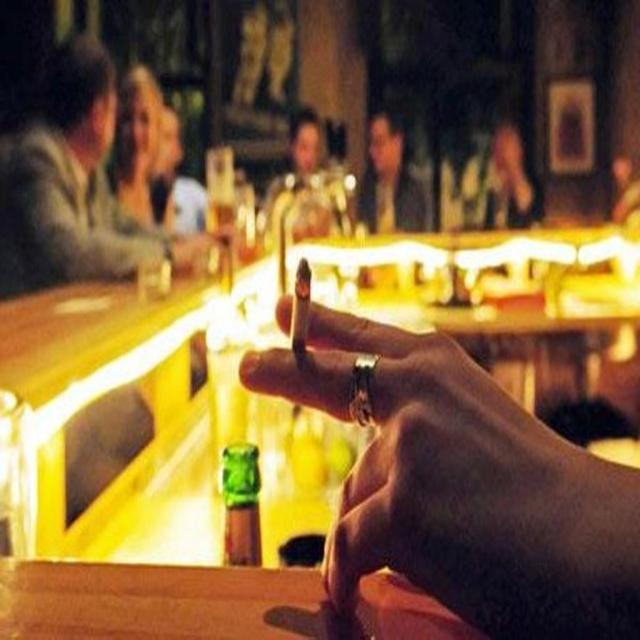smoking: (286, 190, 350, 382)
